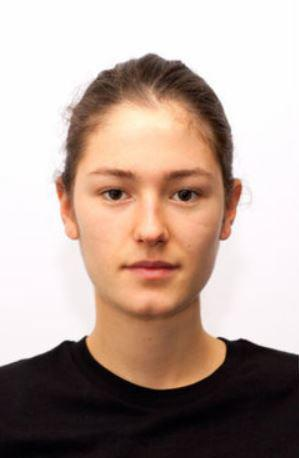Sober: (80, 131, 217, 301)
